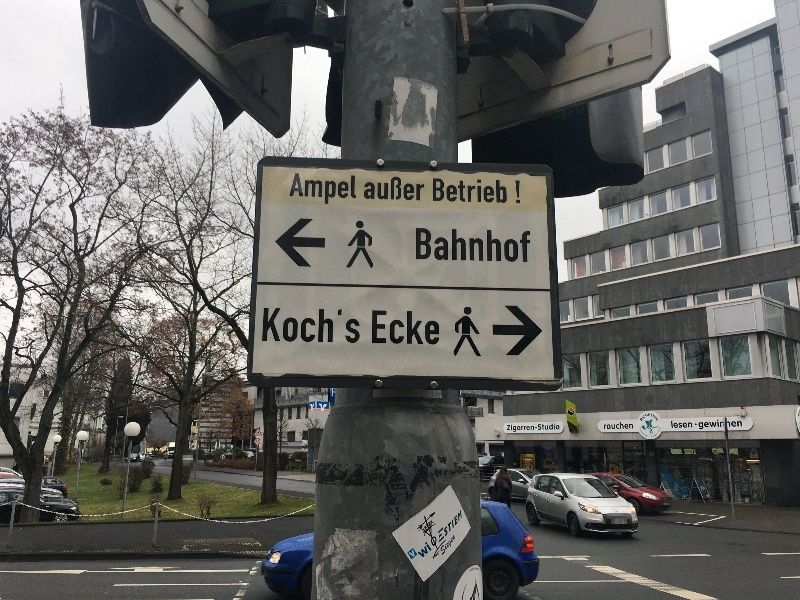text: (273, 308, 288, 344), (289, 308, 304, 344), (305, 308, 320, 344), (321, 308, 336, 344), (337, 308, 352, 344), (385, 311, 400, 346), (401, 311, 416, 346), (417, 311, 432, 346), (417, 229, 432, 263), (433, 229, 448, 263), (449, 229, 464, 263), (465, 229, 480, 263), (481, 229, 496, 263), (497, 229, 512, 263), (513, 229, 528, 263), (305, 174, 320, 204), (321, 174, 336, 204), (337, 174, 352, 204), (373, 311, 384, 346), (449, 509, 462, 538), (369, 177, 384, 202), (385, 177, 400, 202), (401, 177, 416, 202), (433, 179, 448, 204), (449, 179, 464, 204), (465, 179, 480, 204), (481, 179, 496, 204), (497, 179, 512, 204), (263, 308, 272, 344), (295, 174, 304, 204), (417, 542, 432, 559), (353, 308, 360, 344), (433, 311, 440, 346), (417, 177, 426, 202), (439, 534, 448, 557), (513, 179, 521, 204), (438, 527, 448, 544), (705, 419, 720, 430), (449, 534, 456, 557), (641, 413, 656, 422), (353, 174, 357, 204), (513, 425, 528, 433), (609, 422, 624, 430), (673, 421, 688, 429), (444, 509, 448, 538), (545, 424, 560, 431), (659, 427, 672, 435), (641, 428, 650, 439), (726, 419, 736, 428), (365, 177, 368, 202), (529, 425, 538, 433), (625, 422, 634, 430), (689, 421, 698, 429), (311, 404, 320, 412), (529, 229, 531, 263), (698, 419, 704, 430), (257, 440, 272, 444), (737, 419, 743, 428), (321, 403, 327, 412), (332, 386, 336, 398), (721, 419, 725, 430), (538, 424, 544, 431), (507, 425, 512, 433), (604, 422, 608, 430), (651, 434, 656, 439), (413, 549, 416, 557), (657, 413, 659, 422), (319, 403, 320, 412), (671, 421, 672, 429), (657, 434, 658, 439)
